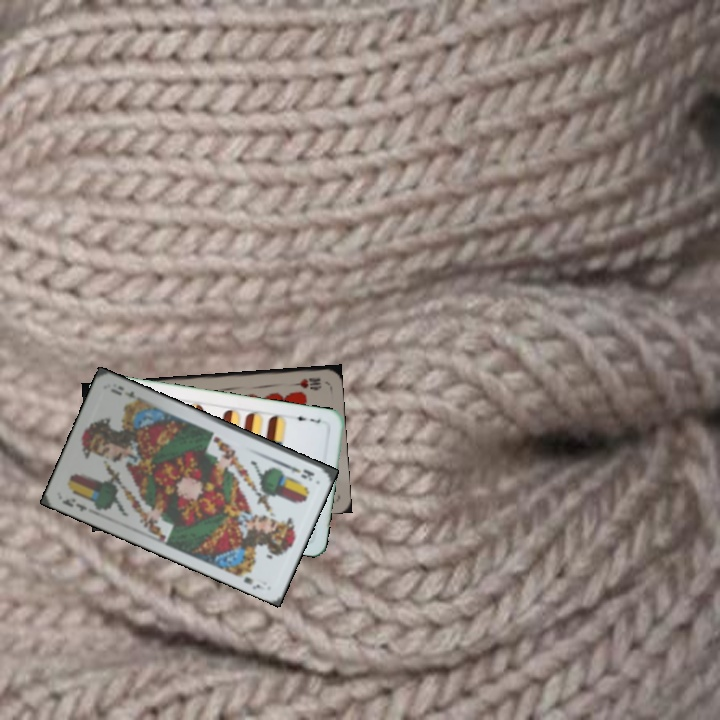E7: (289, 411, 324, 426)
EK: (278, 459, 317, 483), (58, 494, 89, 514)
H10: (286, 373, 324, 390)
